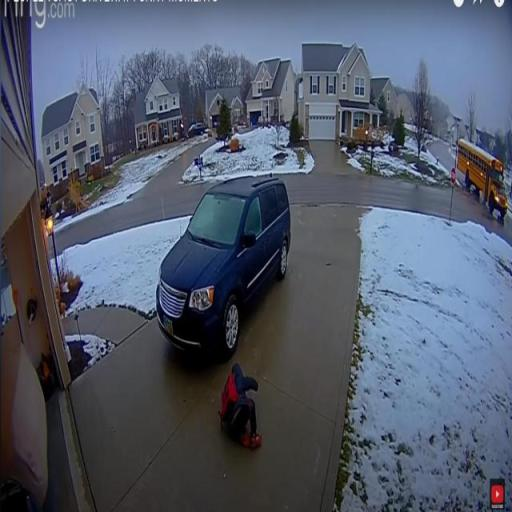Fall: (217, 360, 264, 453)
